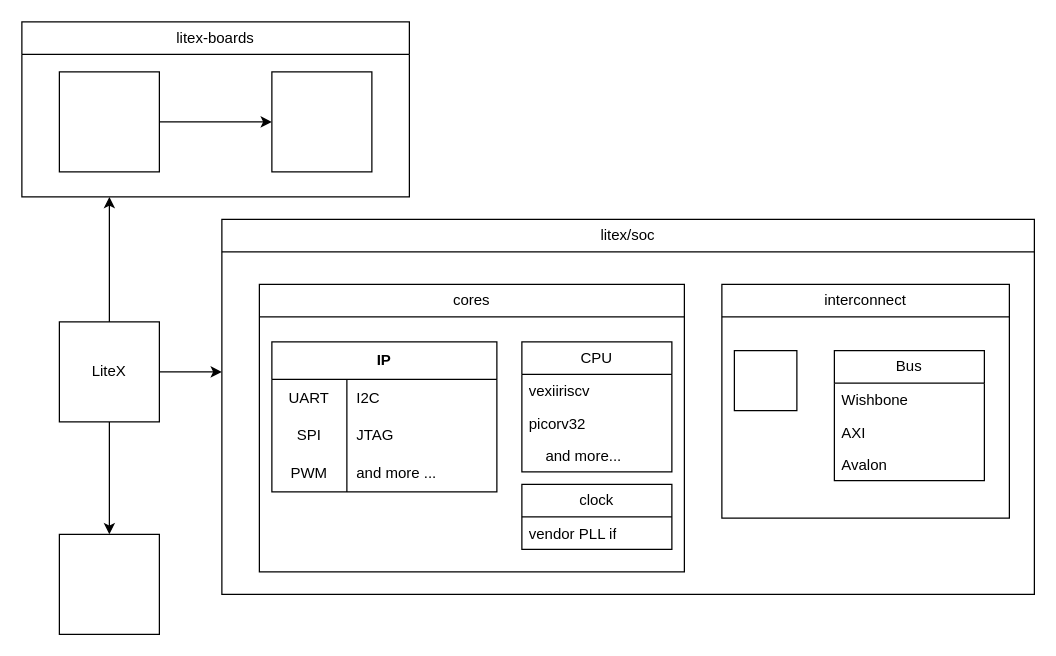
The diagram is 1056 pixels wide and 656 high, and some of its shapes have lost their labels. The shapes that lost their labels are listed below. From the top down, each one's centre as x and y in pixels, then its label:
pixel 108 121: Targets
pixel 321 121: Boards
pixel 765 380: CSR
pixel 108 583: Tools
